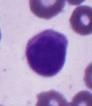L: (22, 29, 69, 79)
